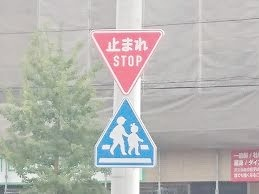Regulatory_sign_triangle: (92, 30, 165, 105)
